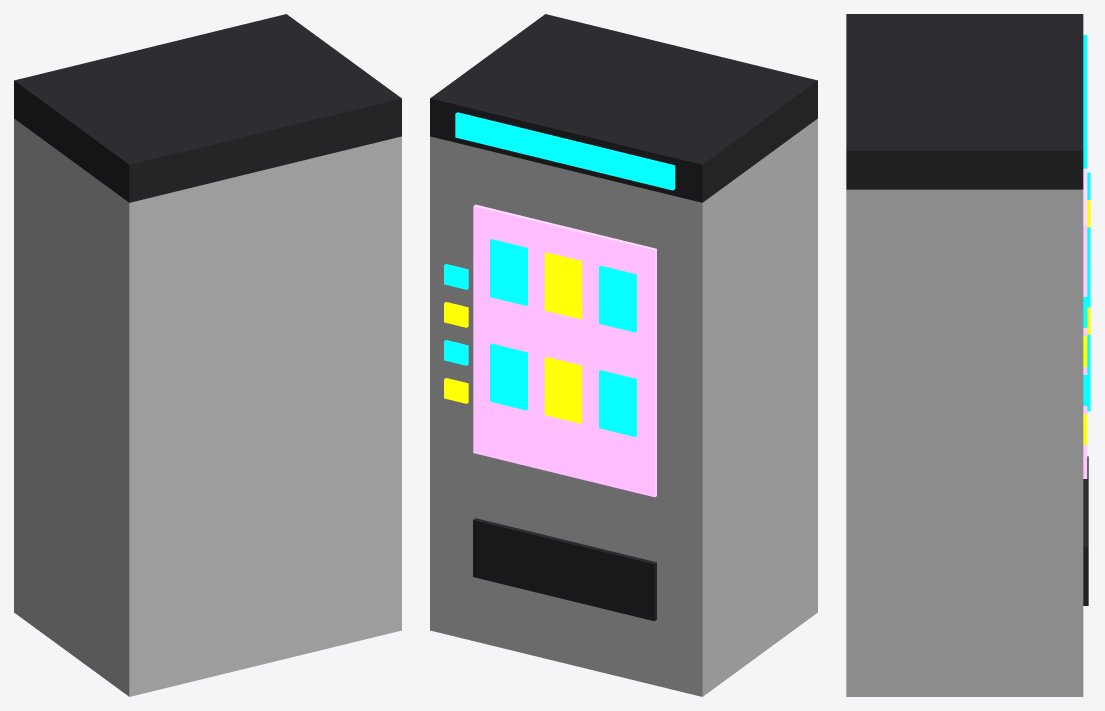
File: Prop_VendingMachine.fbx
3 views of the same model, side by side, from view 1: azimuth 30°, elevation 25°; view 2: azimuth 150°, elevation 25°; view 3: azimuth 270°, elevation 25° (orthographic). The views are drawn at different scales.
Parts seen in each view (by area): view 1: Vend_Body, Vend_Sign; view 2: Vend_Body, Vend_Sign, Vend_Screen, Vend_Slot, Vend_SignGlow, Vend_Item10, Vend_Item11, Vend_Item20, Vend_Item00, Vend_Item01, Vend_Item21; view 3: Vend_Body, Vend_Sign, Vend_Screen, Vend_Slot, Vend_SignGlow.
Part boxes in pixels (left/top/right/bottom): Vend_Body: left=14, top=118, right=401, bottom=696; Vend_Sign: left=14, top=14, right=401, bottom=202; Vend_Body: left=430, top=118, right=817, bottom=696; Vend_Sign: left=430, top=14, right=817, bottom=202; Vend_Screen: left=473, top=204, right=656, bottom=497; Vend_Slot: left=473, top=518, right=656, bottom=621; Vend_SignGlow: left=455, top=112, right=675, bottom=190; Vend_Item10: left=544, top=252, right=582, bottom=319; Vend_Item11: left=544, top=357, right=582, bottom=423; Vend_Item20: left=490, top=239, right=527, bottom=305; Vend_Item00: left=599, top=265, right=636, bottom=332; Vend_Item01: left=599, top=370, right=636, bottom=436; Vend_Item21: left=490, top=343, right=527, bottom=410; Vend_Body: left=846, top=189, right=1083, bottom=696; Vend_Sign: left=846, top=14, right=1083, bottom=189; Vend_Screen: left=1083, top=168, right=1087, bottom=478; Vend_Slot: left=1083, top=456, right=1088, bottom=605; Vend_SignGlow: left=1083, top=35, right=1087, bottom=168.
Size of the model in its own units: 0.3 by 0.56 by 0.227.
